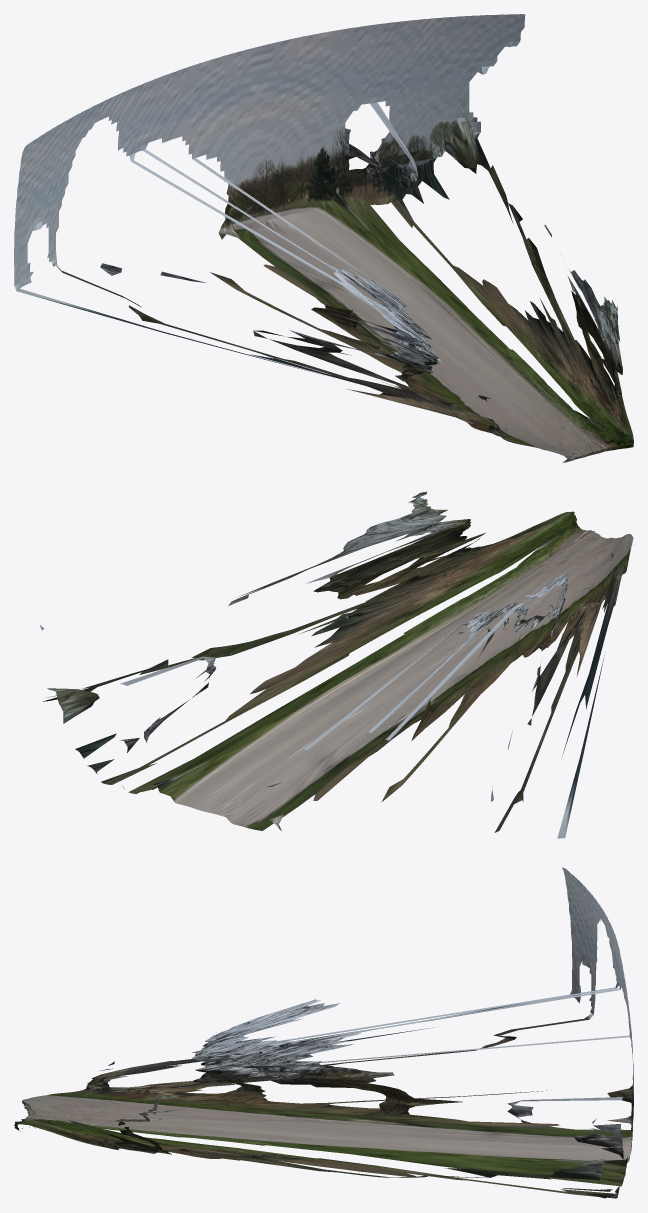
The picture shows the model from 3 angles, top to bottom: view 1: azimuth 30°, elevation 25°; view 2: azimuth 150°, elevation 25°; view 3: azimuth 270°, elevation 25°; orthographic projection. The views are drawn at different scales.
Visible parts, largest first — view 1: defaultobject; view 2: defaultobject; view 3: defaultobject.
Boxes of the visible parts, bbox=[...] form: defaultobject: bbox=[14, 14, 633, 462]; defaultobject: bbox=[40, 491, 633, 838]; defaultobject: bbox=[14, 867, 633, 1198].
Size of the model in its own units: 38.28 by 13.55 by 44.91.
Materials: 1 (1 with a texture image).
